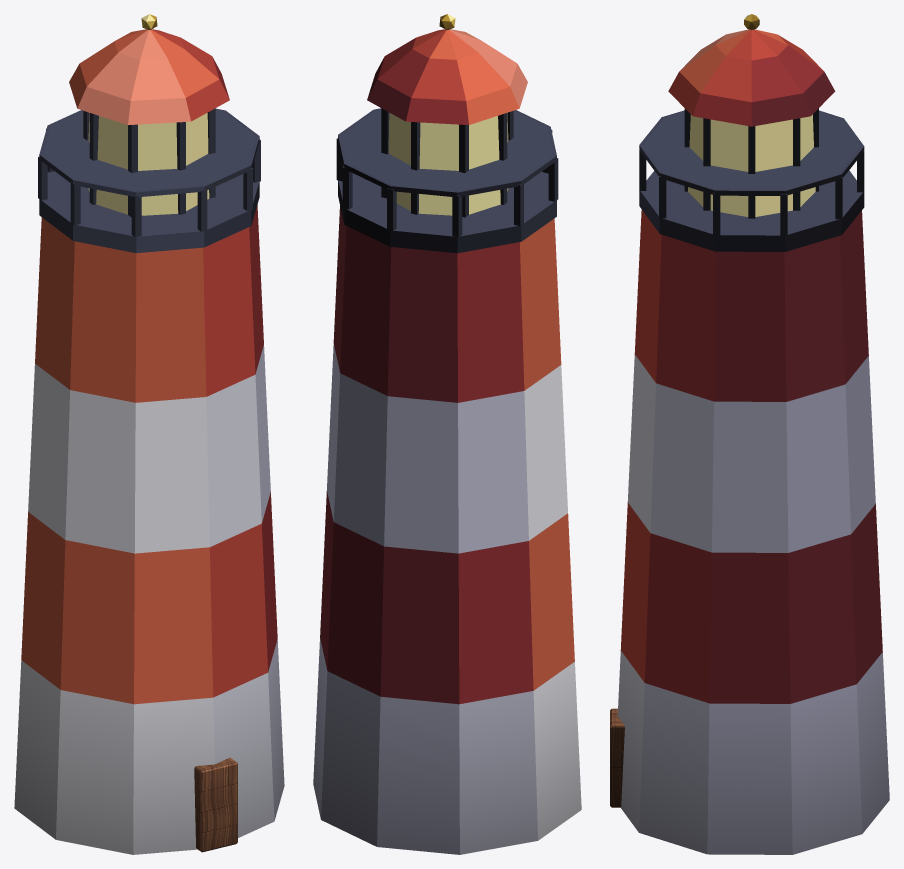
File: lighthouse.glb
The picture shows the model from 3 angles, left to right: view 1: azimuth 30°, elevation 25°; view 2: azimuth 150°, elevation 25°; view 3: azimuth 270°, elevation 25°; orthographic projection.
Parts seen in each view (by area): view 1: lighthouse; view 2: lighthouse; view 3: lighthouse.
Part boxes in pixels (x1,y1,x2,y2): lighthouse: [14, 14, 284, 854]; lighthouse: [313, 14, 581, 854]; lighthouse: [610, 14, 889, 854].
Size of the model in its own units: 1.45 by 4.77 by 1.54.
Materials: 7 (7 with a texture image).
